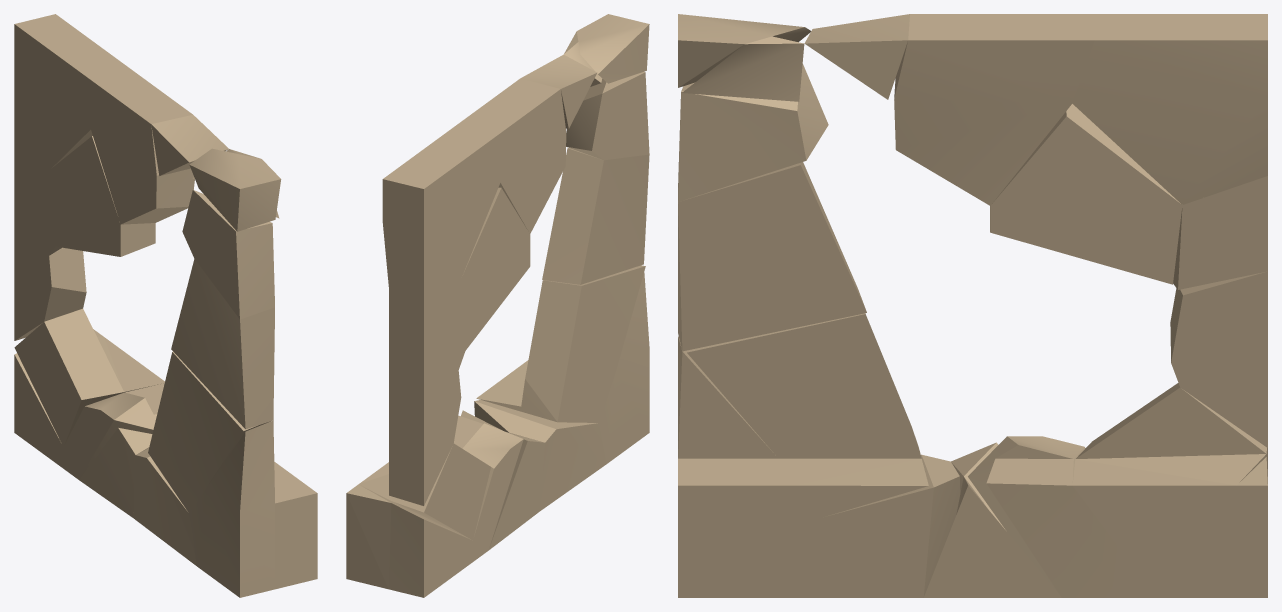
Rendered from SM_wall_debris_02.fbx.
3 views of the same model, side by side, from view 1: azimuth 30°, elevation 25°; view 2: azimuth 150°, elevation 25°; view 3: azimuth 270°, elevation 25° (orthographic). The views are drawn at different scales.
Parts seen in each view (by area): view 1: wall_debris_02; view 2: wall_debris_02; view 3: wall_debris_02.
Part boxes in pixels (x1,y1,x2,y2): wall_debris_02: [14, 14, 317, 597]; wall_debris_02: [346, 14, 649, 597]; wall_debris_02: [678, 14, 1267, 597].
Size of the model in its own units: 99.27 by 500 by 500.
